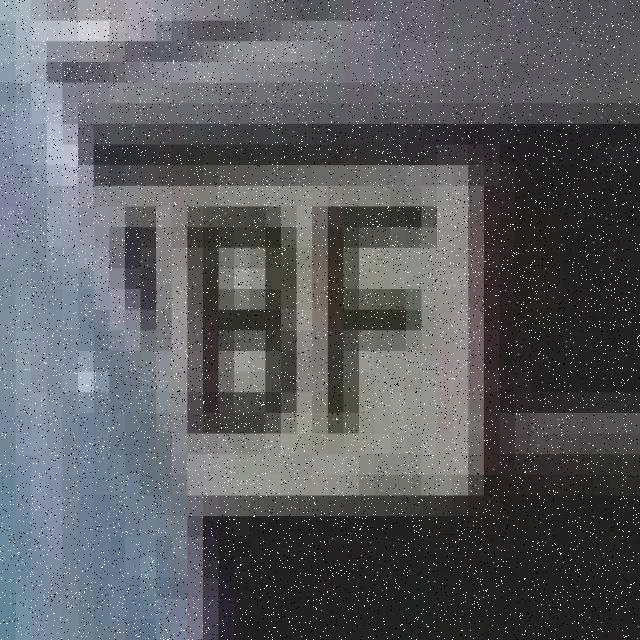LicensePlate: (58, 107, 528, 541)
